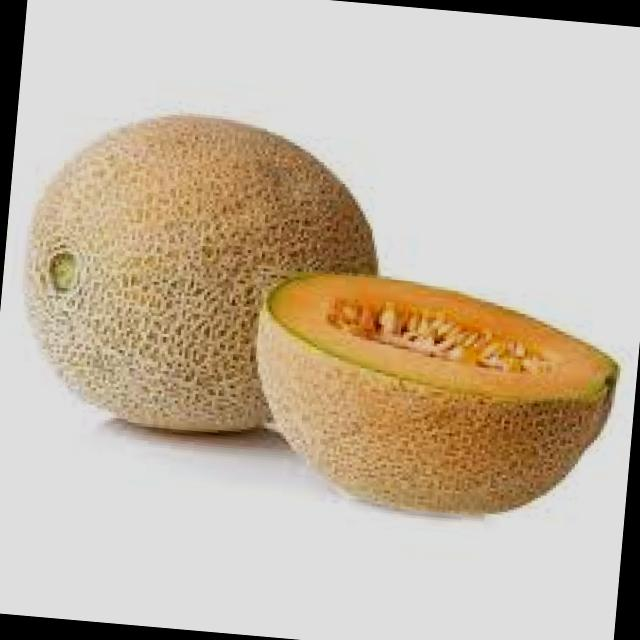cantaloupe: (10, 99, 388, 446), (244, 264, 626, 529)
